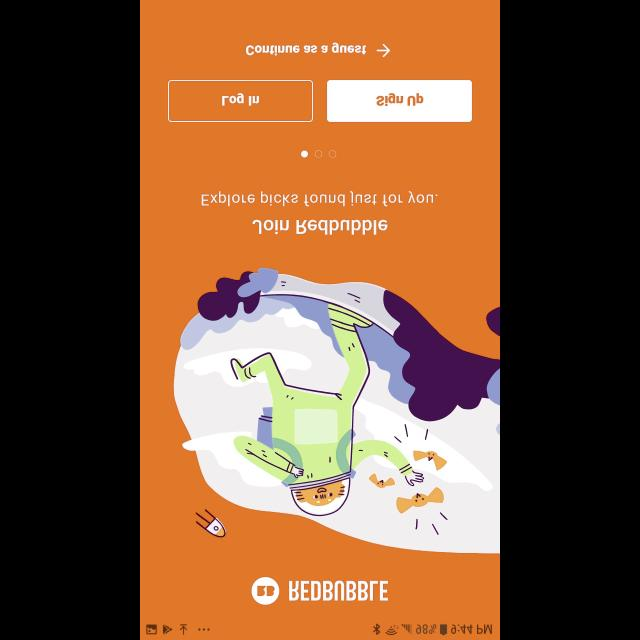icon: (377, 44, 391, 58)
image: (172, 267, 500, 553), (252, 576, 280, 604)
pageindicator: (301, 150, 337, 158)
text: (202, 191, 438, 207), (252, 219, 388, 235), (290, 580, 388, 600), (246, 42, 366, 56)
textbutton: (168, 80, 314, 122), (328, 80, 472, 122)
uppertaskbar: (140, 621, 500, 639)
